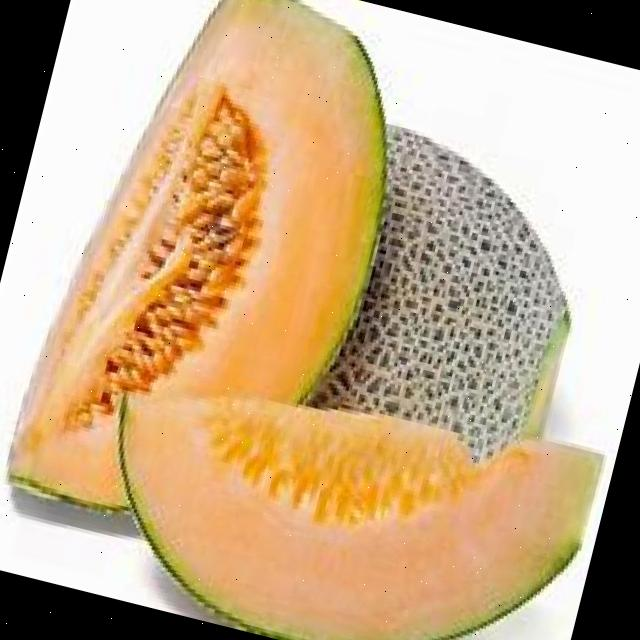Hami Melon: (0, 0, 437, 565), (74, 330, 611, 640), (294, 119, 610, 488)
